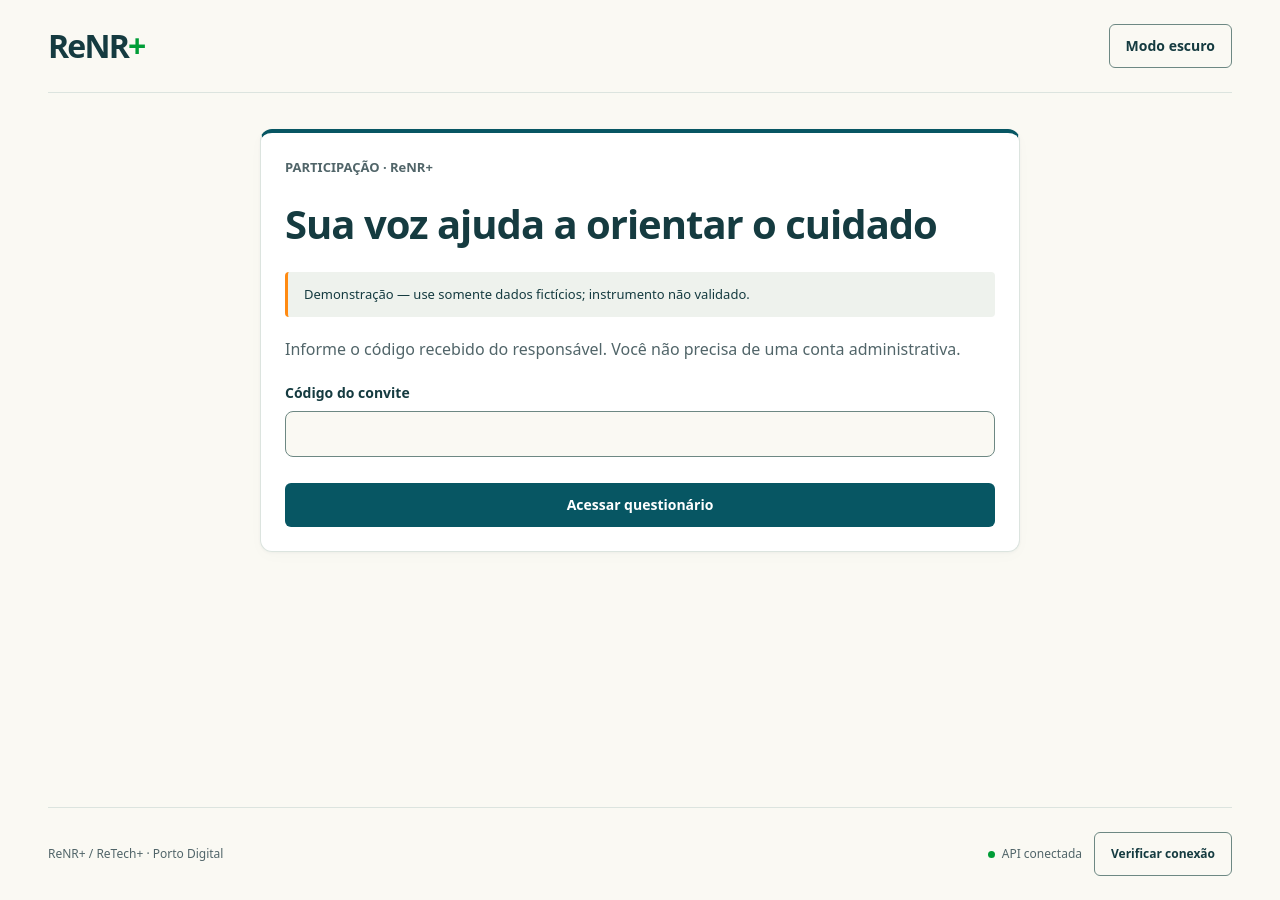
Test: abre participação sem consultar a sessão ou pedir login administrativo
The width and height of the screenshot is (1280, 900).
Expected: the field labelled "Código do convite" is shown, [285,411,995,457]
Click the button "Acessar questionário" at coordinates (640, 505), box [285,483,995,527]
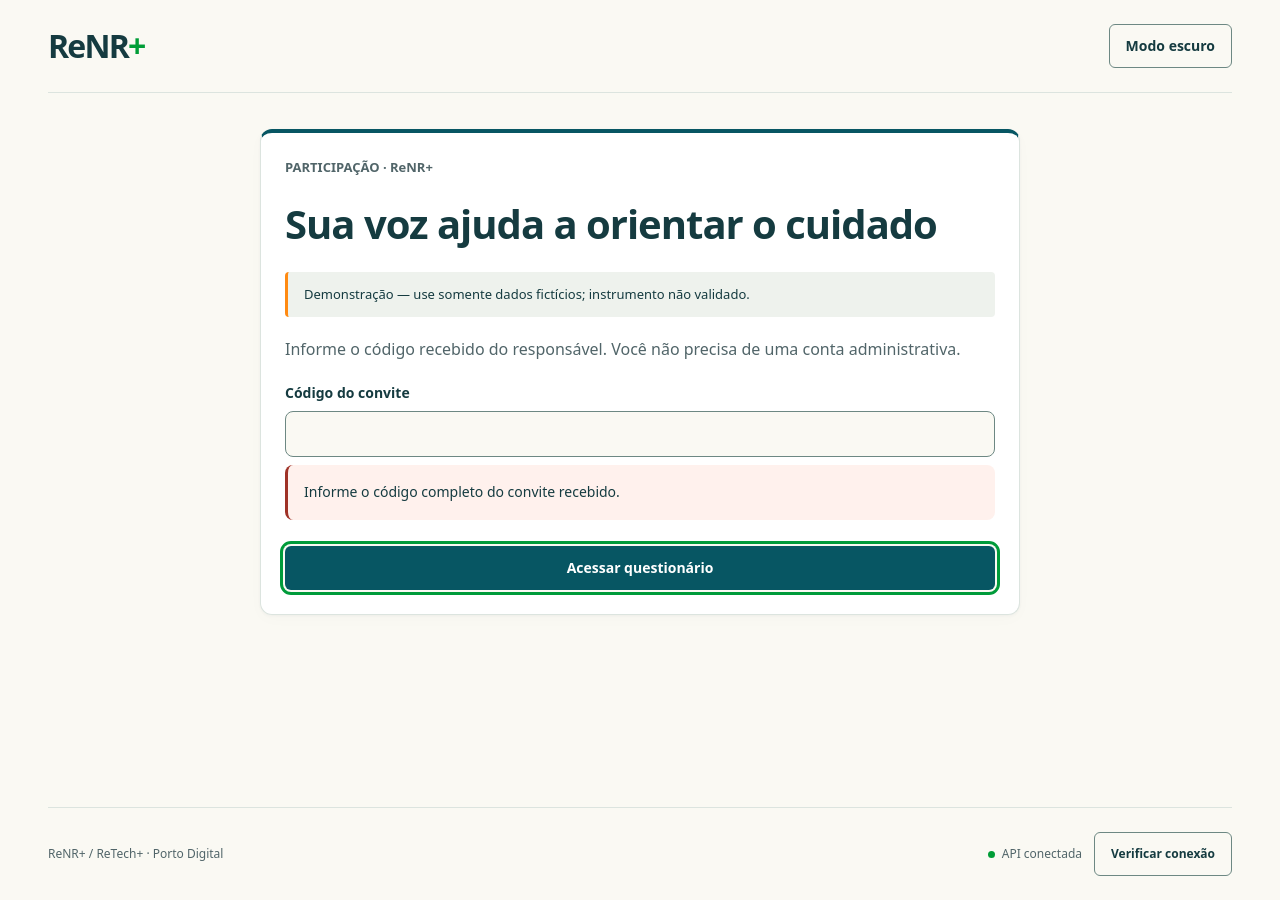
Expected: the message "Informe o código completo do convite recebido." is shown, [285,465,995,520]
